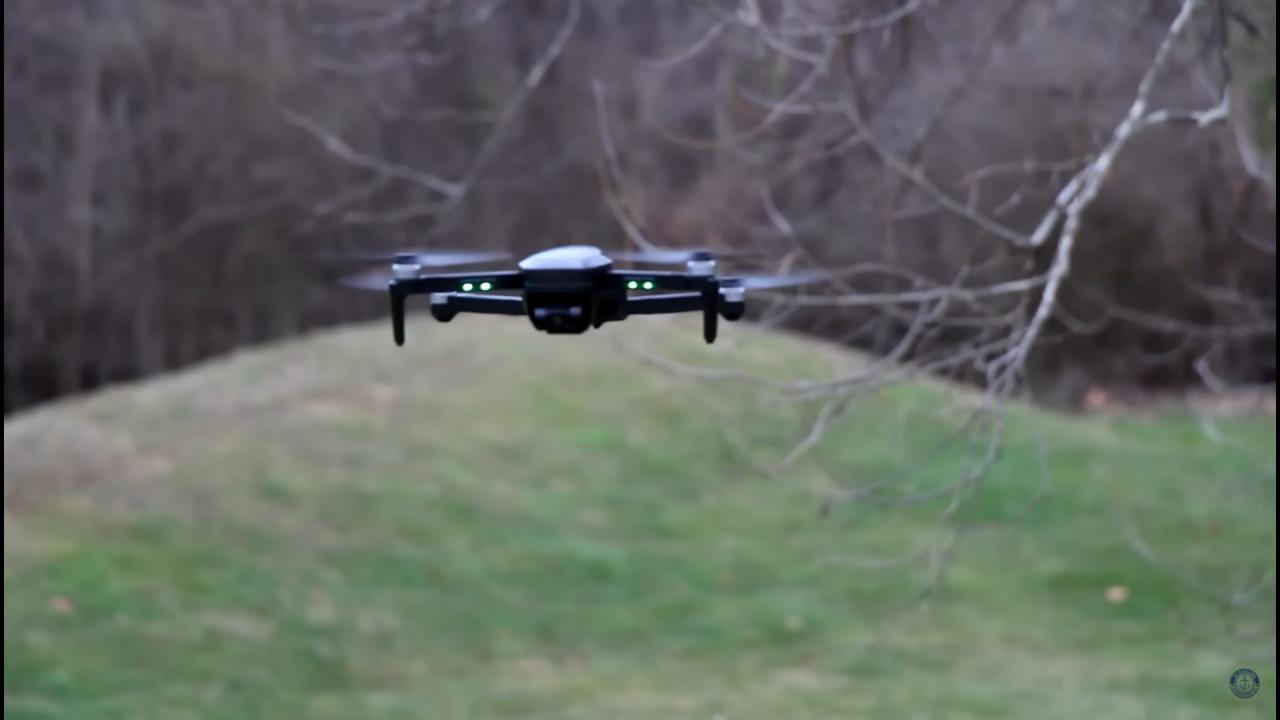Drone: (299, 214, 850, 362)
